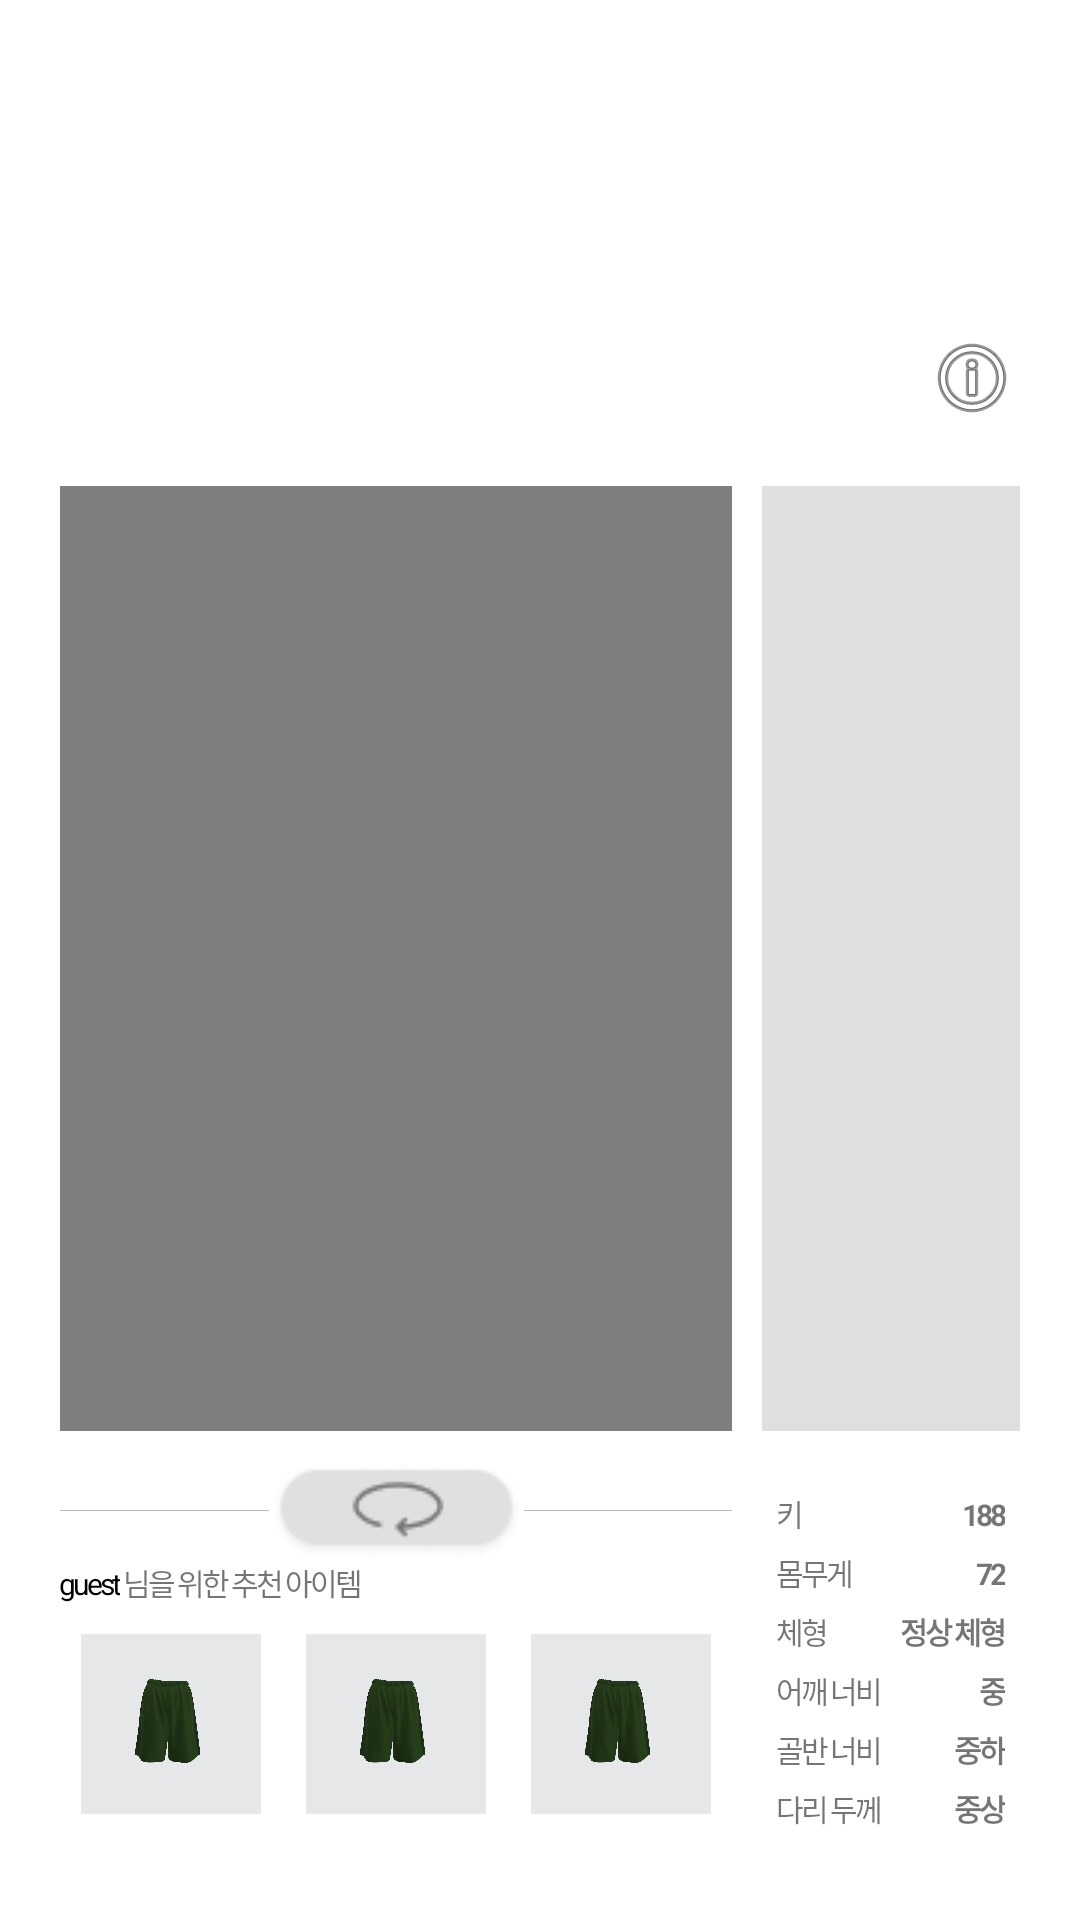

Locate icon controls on the screen. Image size 1080×1920, boxes as bbox=[x1, y1, x2, y2].
info details: bbox=[937, 343, 1007, 413]
